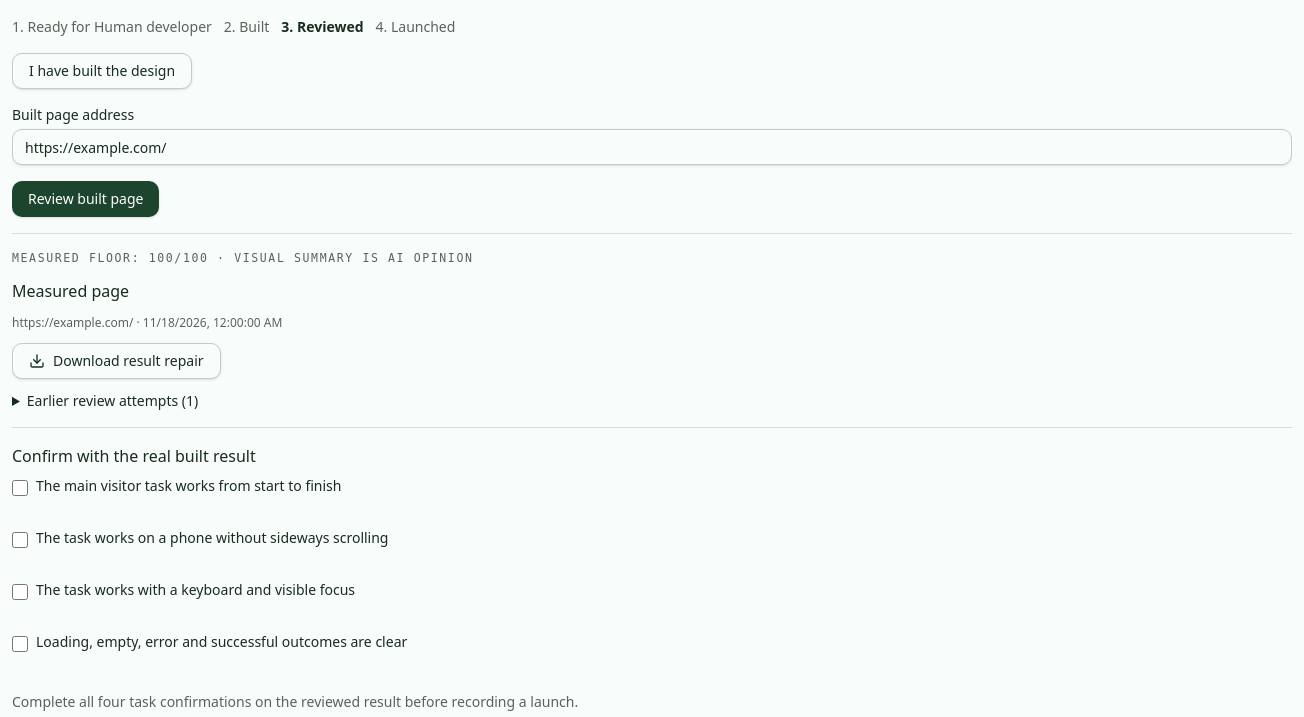
Test: launch readiness explanations › records a launch only after a passing current-page review and all task confirmations
This screenshot has width=1304, height=717.
Expected: the text "Complete all four task confirmations" is shown, [12,692,578,711]
Step 1. Click the checkbox labelled "The main visitor task works from start to finish" → (20,488), box [12,480,28,496]
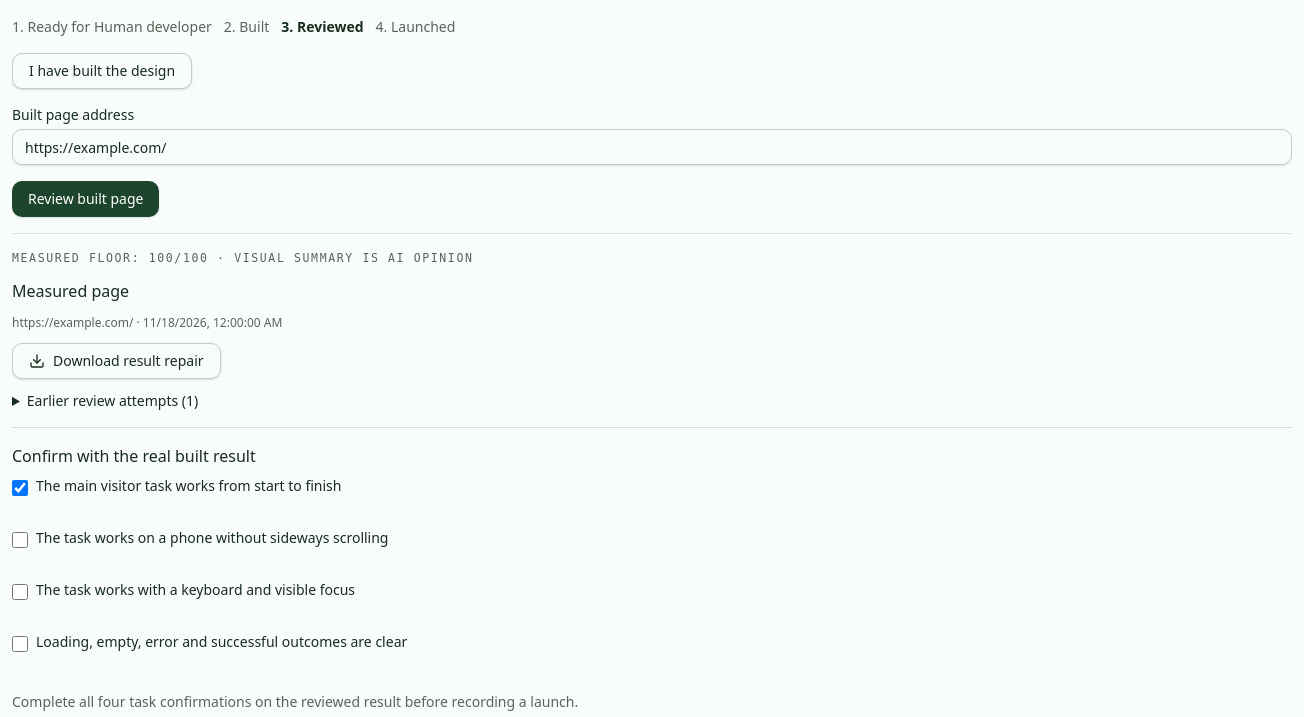
Step 2. Click the checkbox labelled "The task works on a phone without sideways scrolling" → (20,540), box [12,532,28,548]
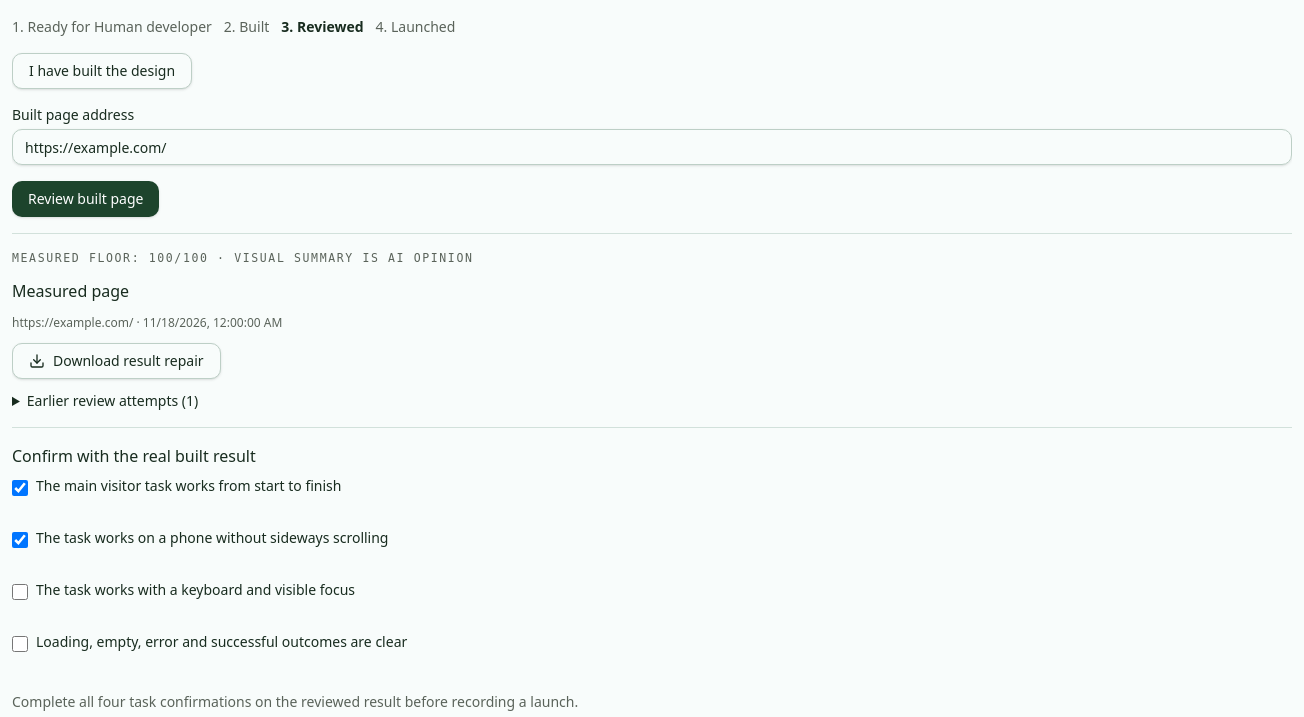
Step 3. Click the checkbox labelled "The task works with a keyboard and visible focus" → (20,592), box [12,584,28,600]
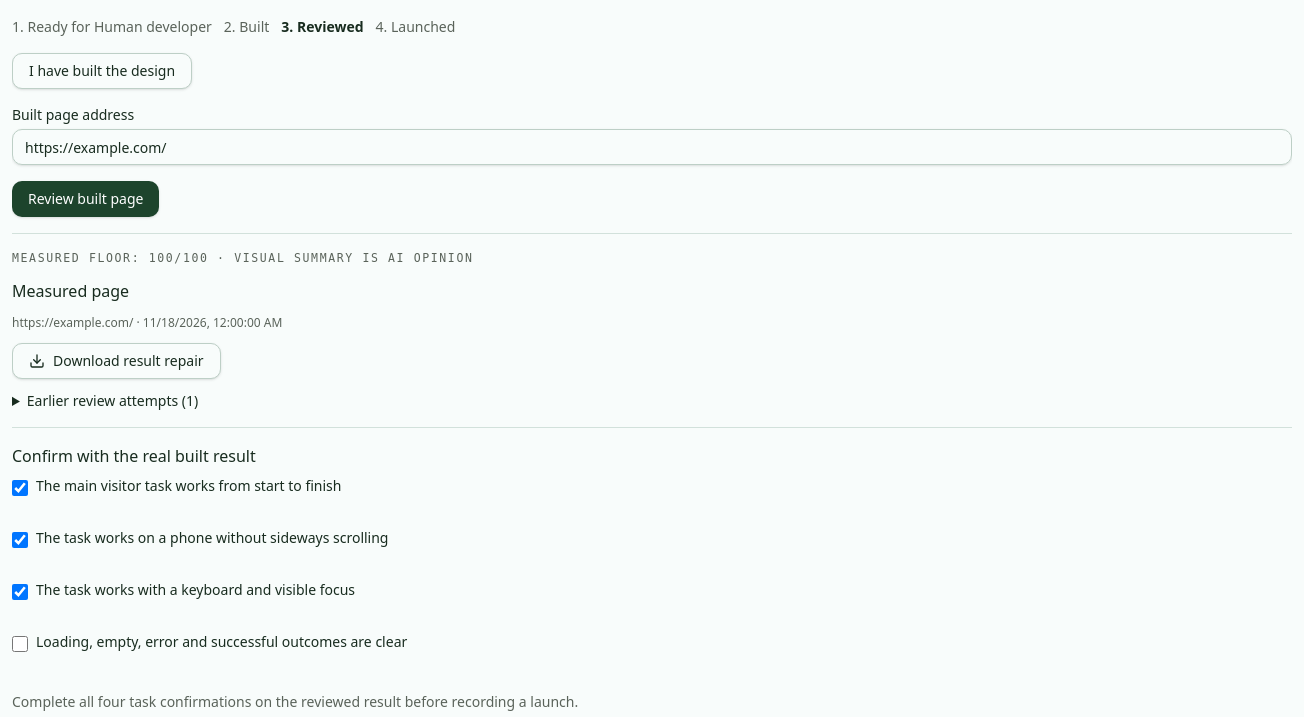
Step 4. Click the checkbox labelled "Loading, empty, error and successful outcomes are clear" → (20,644), box [12,636,28,652]
(page scrolled)
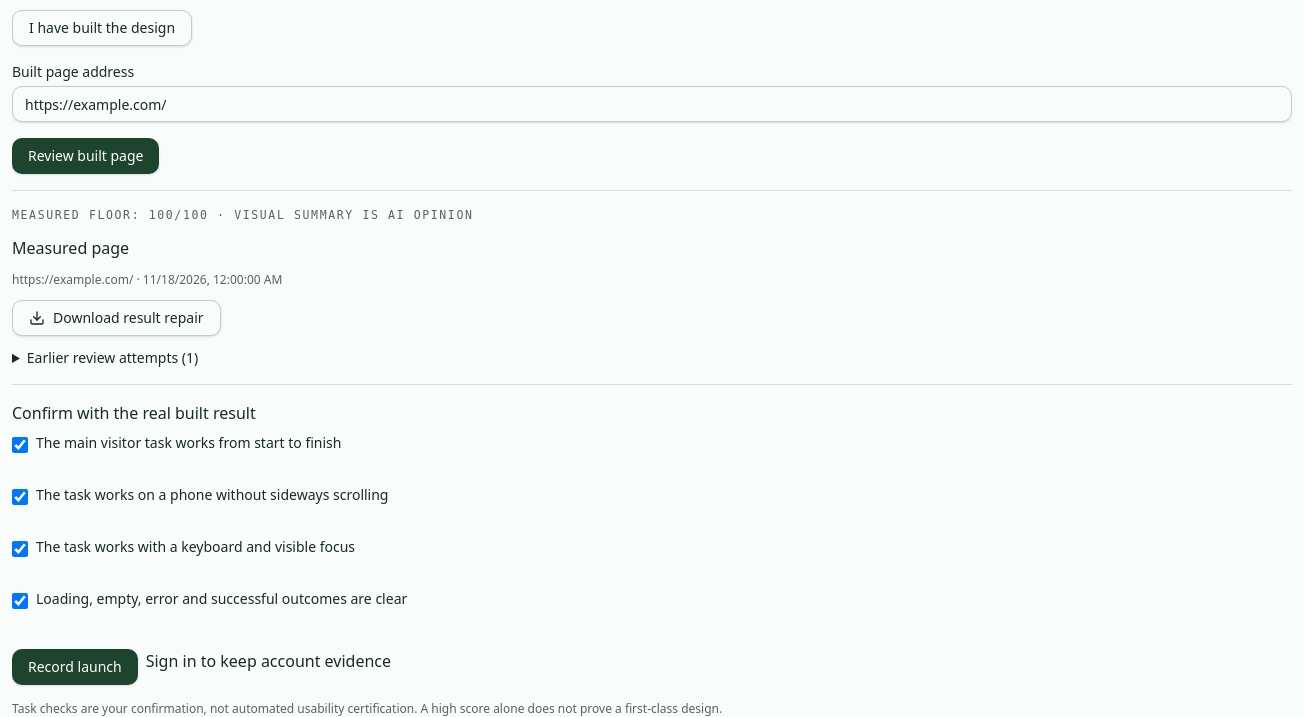
Now the button "Record launch" is enabled
Step 5. Click the button "Record launch" → (75,667), box [12,649,138,685]
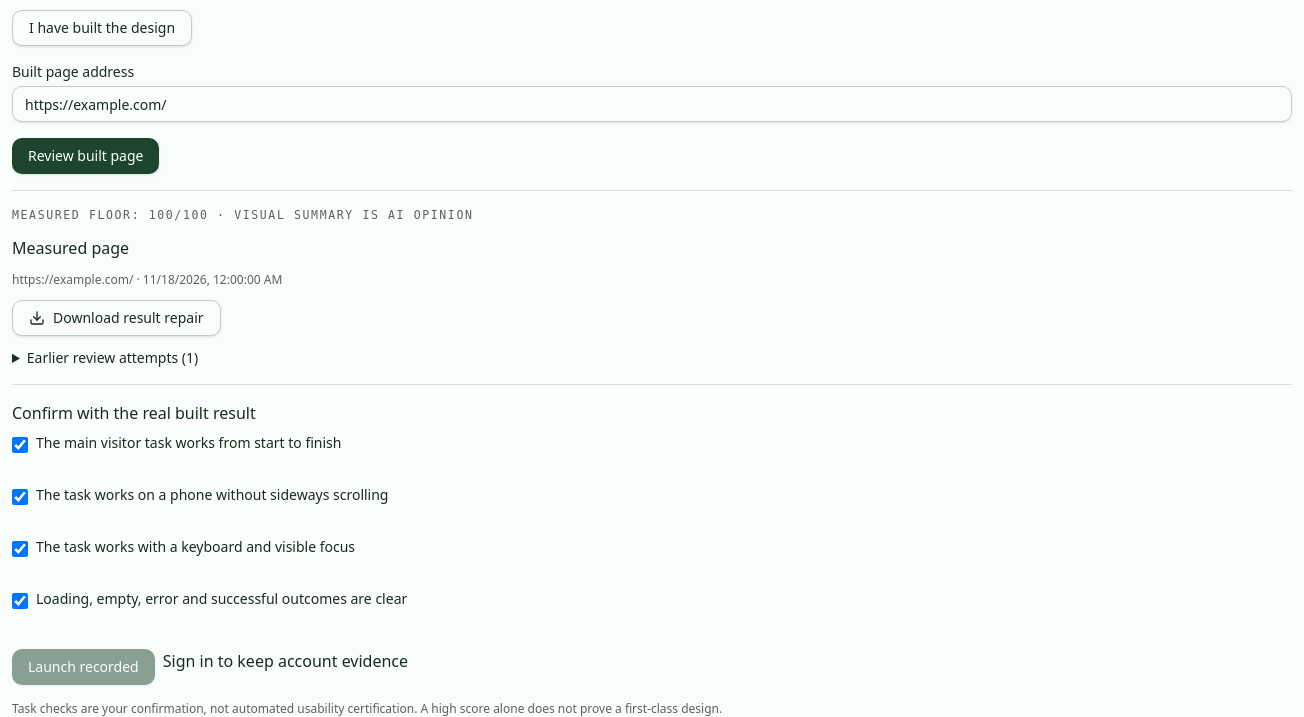
Now the button "Launch recorded" is disabled, box [12,649,155,685]
